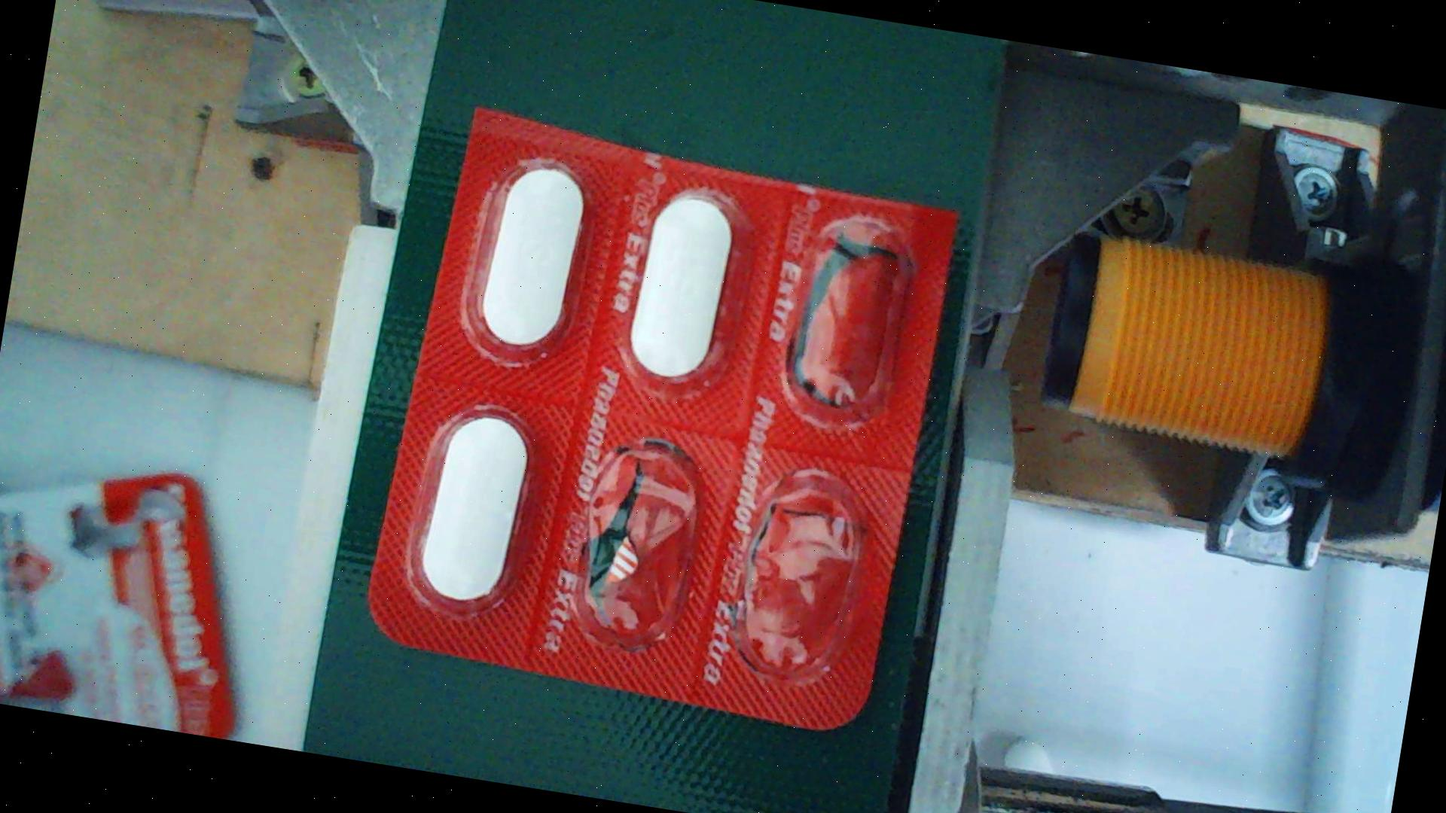Empty: (565, 429, 722, 661), (723, 458, 879, 690), (769, 202, 925, 434)
Full: (396, 393, 553, 625), (602, 168, 758, 400), (454, 134, 610, 366)
